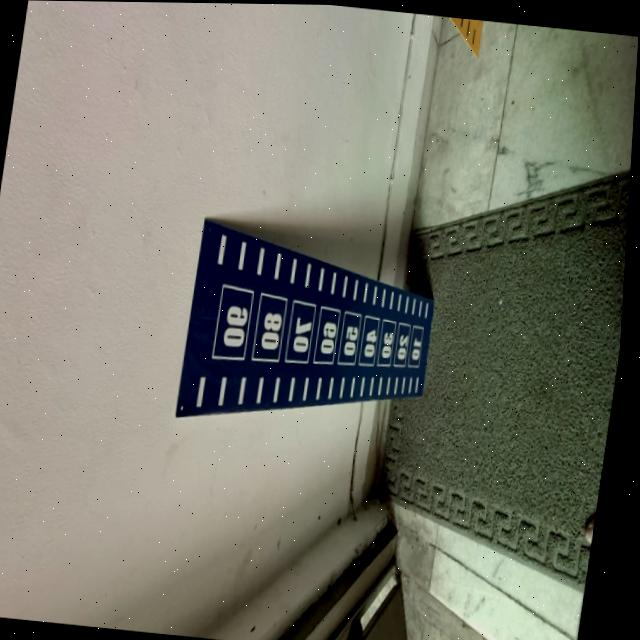water-meter: (160, 198, 457, 454)
